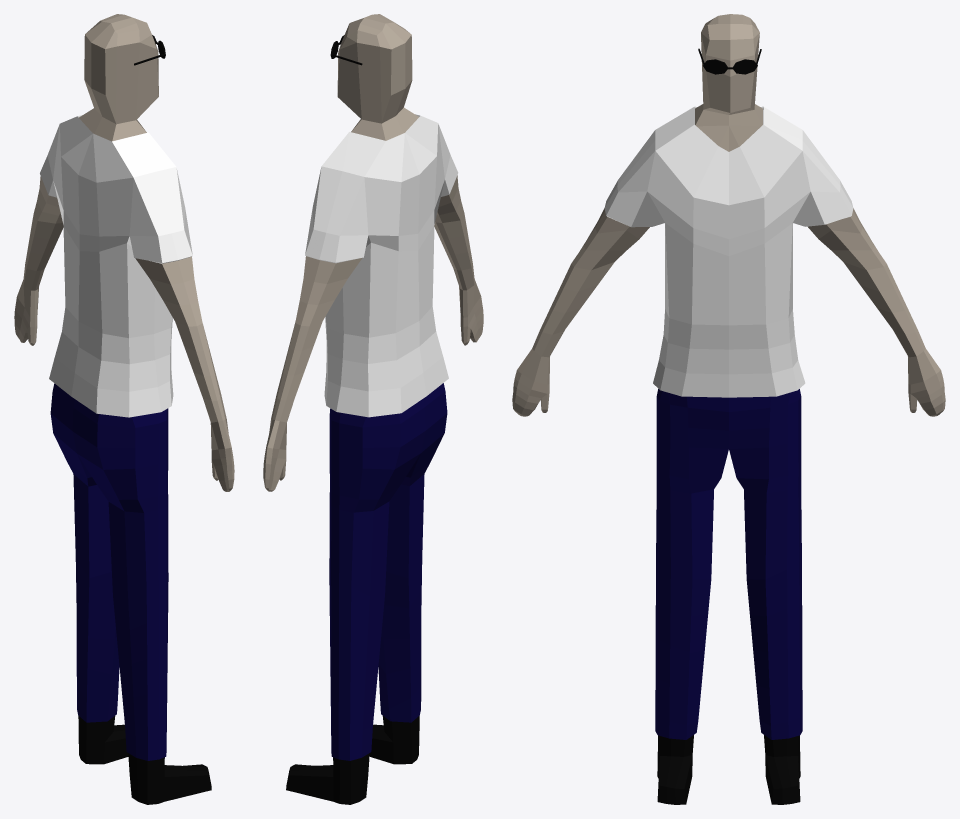
Rendered from character4.fbx.
3 views of the same model, side by side, from view 1: azimuth 30°, elevation 25°; view 2: azimuth 150°, elevation 25°; view 3: azimuth 270°, elevation 25° (orthographic).
Parts seen in each view (by area): view 1: Character4Shirt, Character4Jeans, Character4, Character4Shoe; view 2: Character4Shirt, Character4Jeans, Character4, Character4Shoe; view 3: Character4Shirt, Character4Jeans, Character4, Character4Shoe.
Part boxes in pixels (x1,y1,x2,y2): Character4Shirt: (40, 115, 192, 417); Character4Jeans: (50, 383, 168, 760); Character4: (14, 14, 234, 491); Character4Shoe: (78, 716, 211, 804); Character4Shirt: (305, 114, 458, 417); Character4Jeans: (329, 383, 447, 760); Character4: (263, 14, 483, 491); Character4Shoe: (286, 716, 419, 804); Character4Shirt: (604, 106, 853, 397); Character4Jeans: (655, 389, 802, 739); Character4: (512, 14, 945, 416); Character4Shoe: (657, 735, 800, 804).
Bounding box in the file's own units: 110 × 715 × 370.
